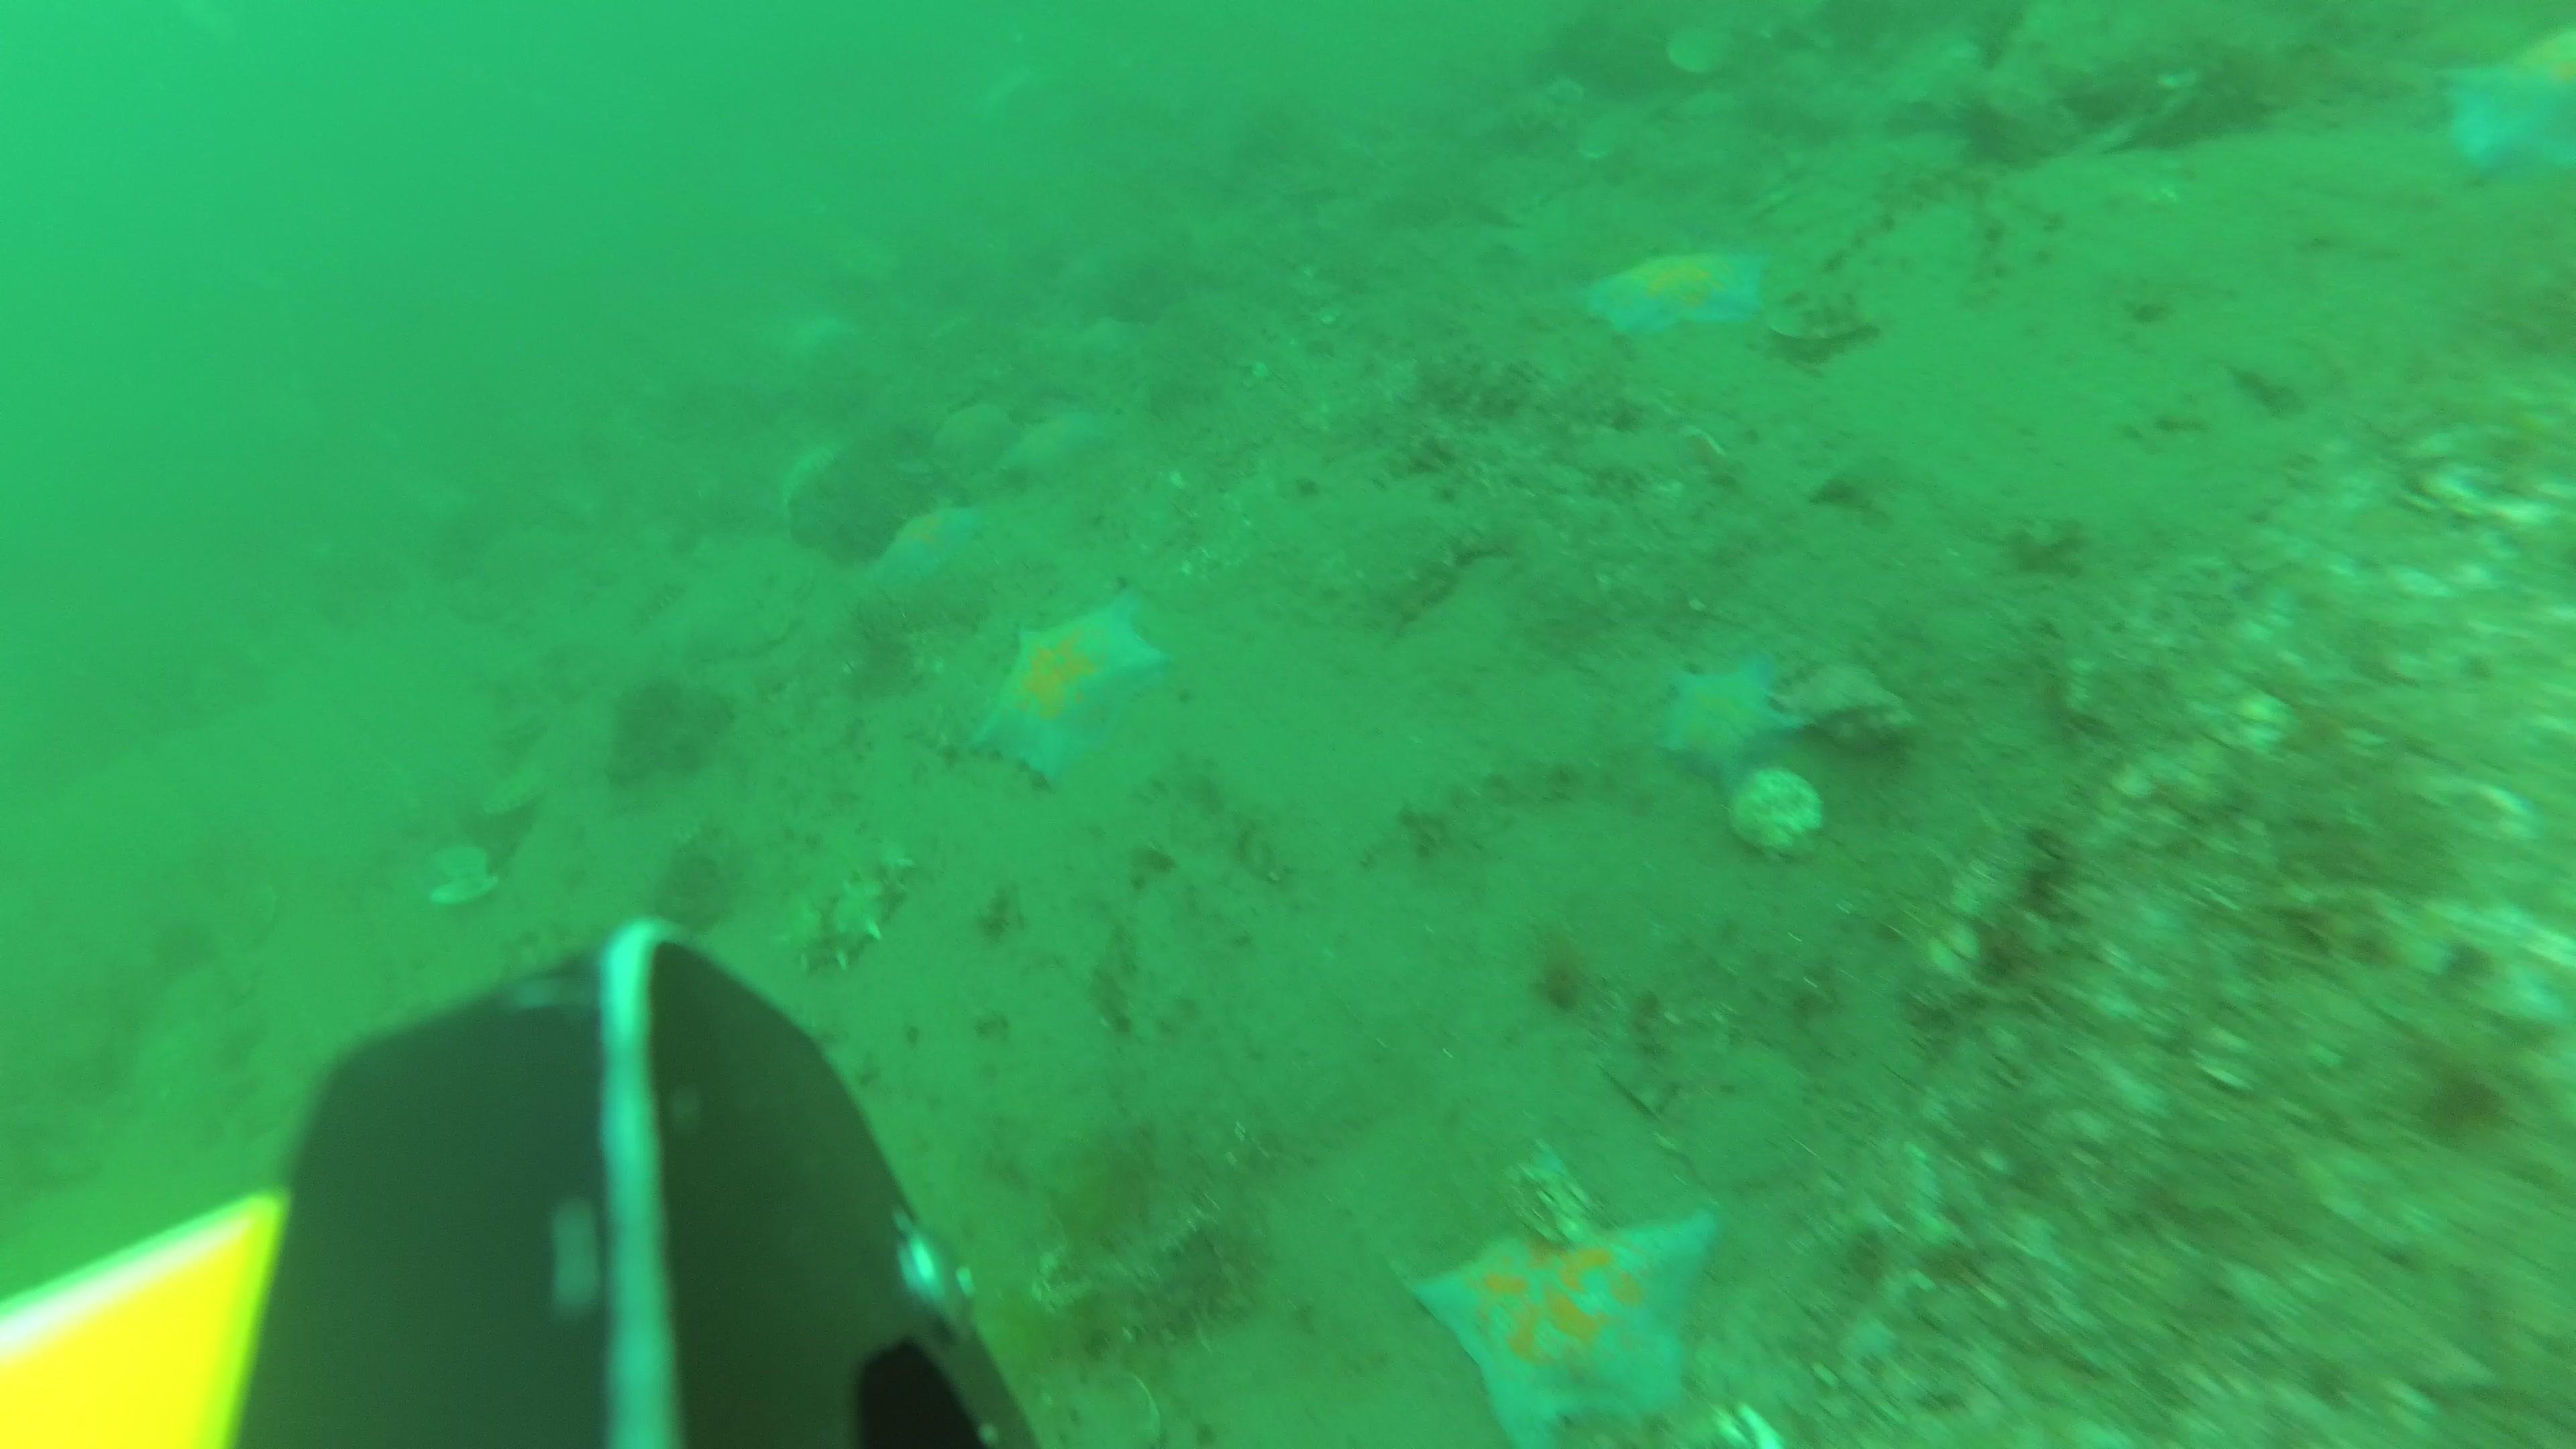echinus: (1962, 94, 2043, 170), (1969, 14, 2049, 78)
holothurian: (784, 847, 916, 970)
scallop: (1725, 768, 1831, 855), (430, 853, 504, 913), (490, 764, 550, 816)
starfish: (1410, 1138, 1718, 1449), (971, 586, 1171, 793), (2445, 25, 2576, 191), (1667, 655, 1798, 801), (1589, 249, 1771, 349), (869, 506, 980, 594), (1003, 410, 1104, 485), (941, 403, 1021, 479)
